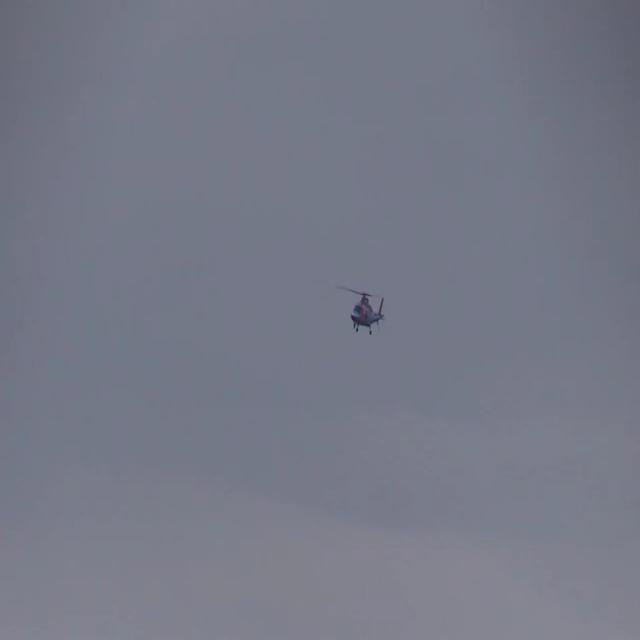Helicopter: (320, 273, 410, 344)
